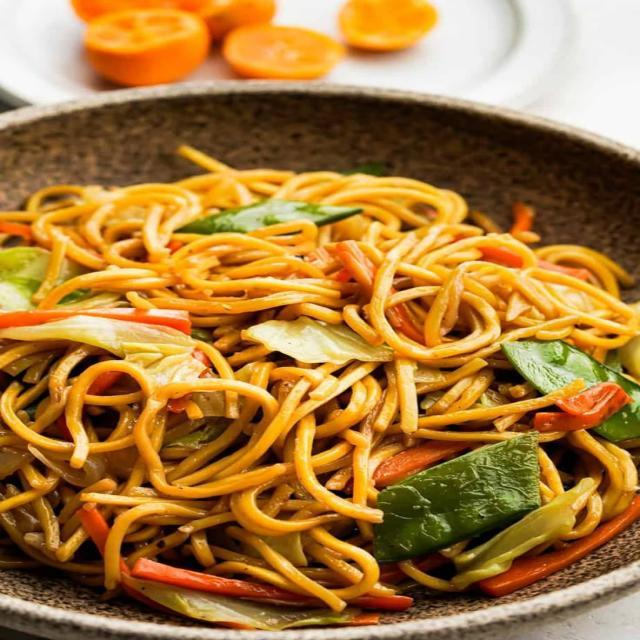pancit bihon: (0, 86, 640, 624)
